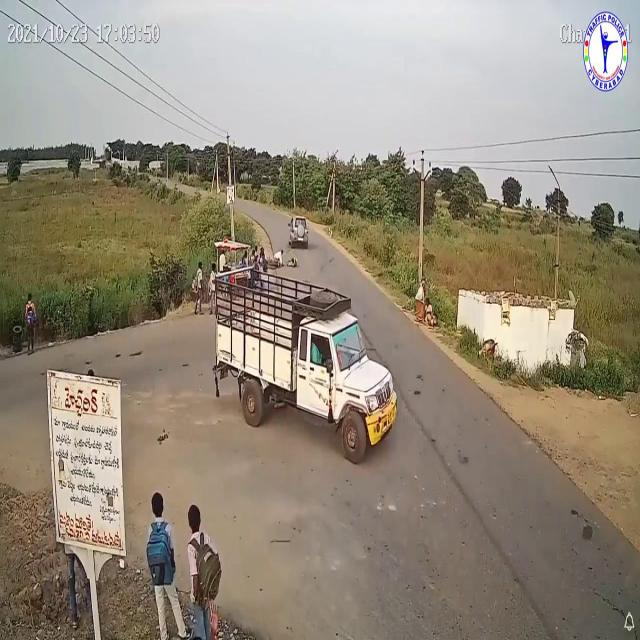accident: (266, 212, 310, 273)
